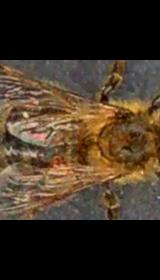varroa_mite: (42, 148, 72, 176)
